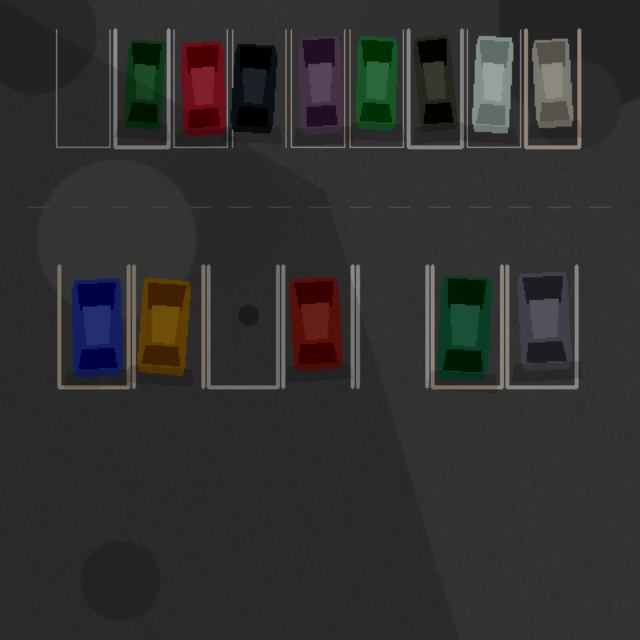space-empty: (357, 265, 427, 387), (208, 265, 277, 387), (56, 29, 109, 147)
space-occupied: (133, 265, 203, 387), (59, 265, 128, 387), (283, 265, 352, 387), (432, 265, 501, 387), (507, 265, 576, 387), (173, 29, 227, 147), (349, 29, 403, 147), (525, 29, 579, 147), (115, 29, 168, 147), (232, 29, 285, 147), (291, 29, 344, 147), (408, 29, 461, 147), (467, 29, 520, 147)
